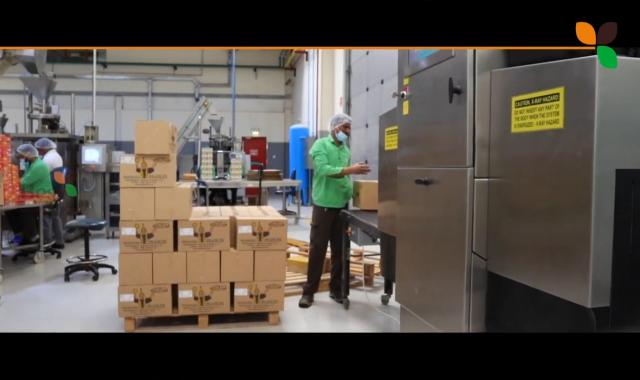hairnet: (329, 113, 352, 140), (36, 137, 62, 152), (17, 144, 37, 162)
